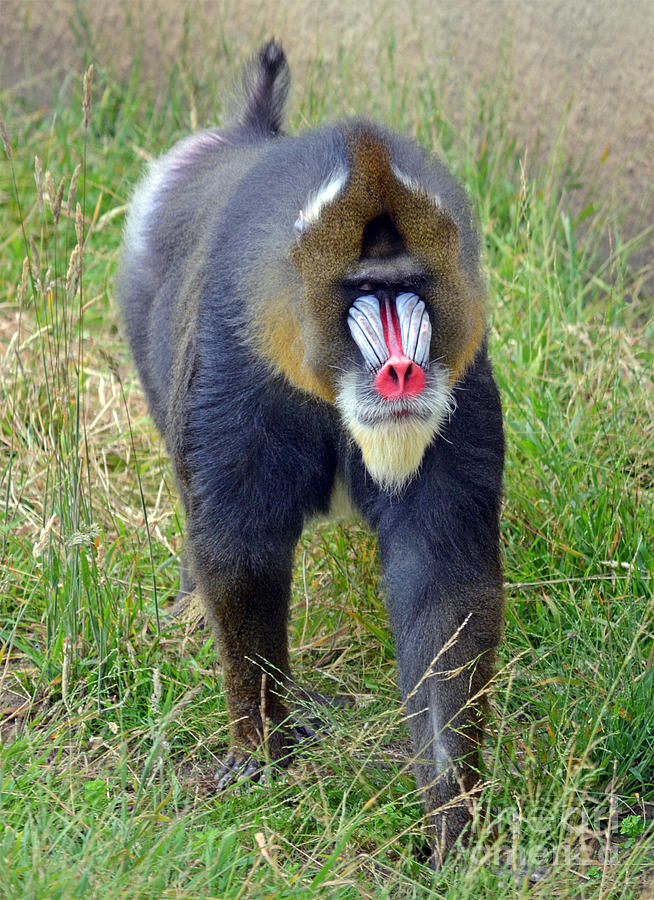Mandrill: (144, 102, 512, 764)
